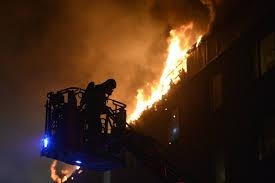fire: (130, 23, 210, 121)
